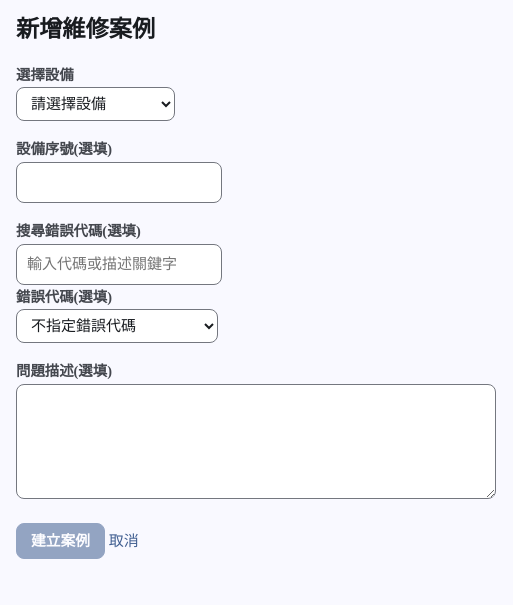
NewMaintenanceCasePage error code search (E07-S004) › shows a distinct 查無符合 message when the query matches no error code
This screenshot has width=513, height=605.
Type "不存在的代碼" into the field labelled "搜尋錯誤代碼(選填)" at (119, 264), box x1=16 y1=244 x2=222 y2=285
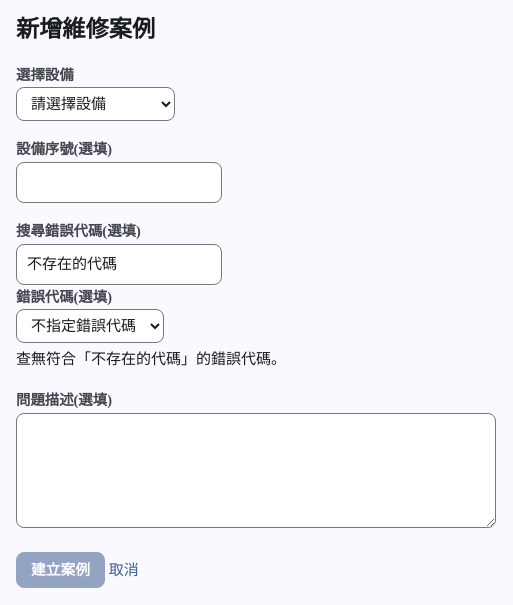
Expected: the text "查無符合「不存在的代碼」的錯誤代碼。" is shown, x1=16 y1=351 x2=286 y2=367
